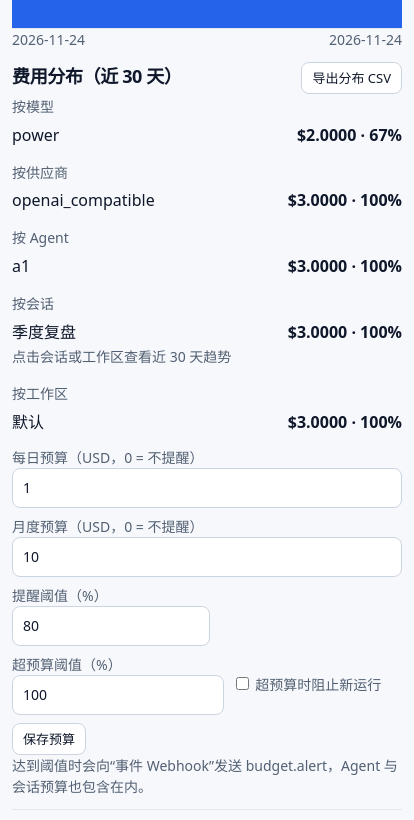
Scenario: CostSummarySection monthly budget › drills into a workspace cost series
This screenshot has width=414, height=820.
(page scrolled)
Click the button with test id "cost-workspace-default" at coordinates (28, 422), box [12,410,402,435]
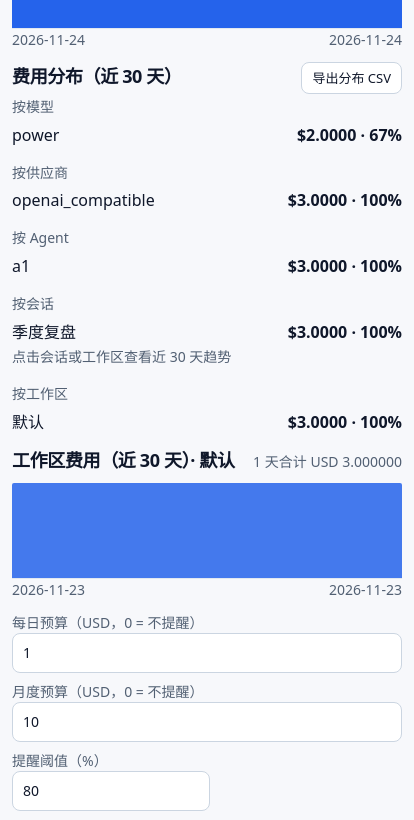
Expected: the text "工作区费用（近 30 天）· 默认" is shown, [12,447,235,475]
Expected: the number of elements with test id "cost-series-bar" is 1, [12,483,402,578]
